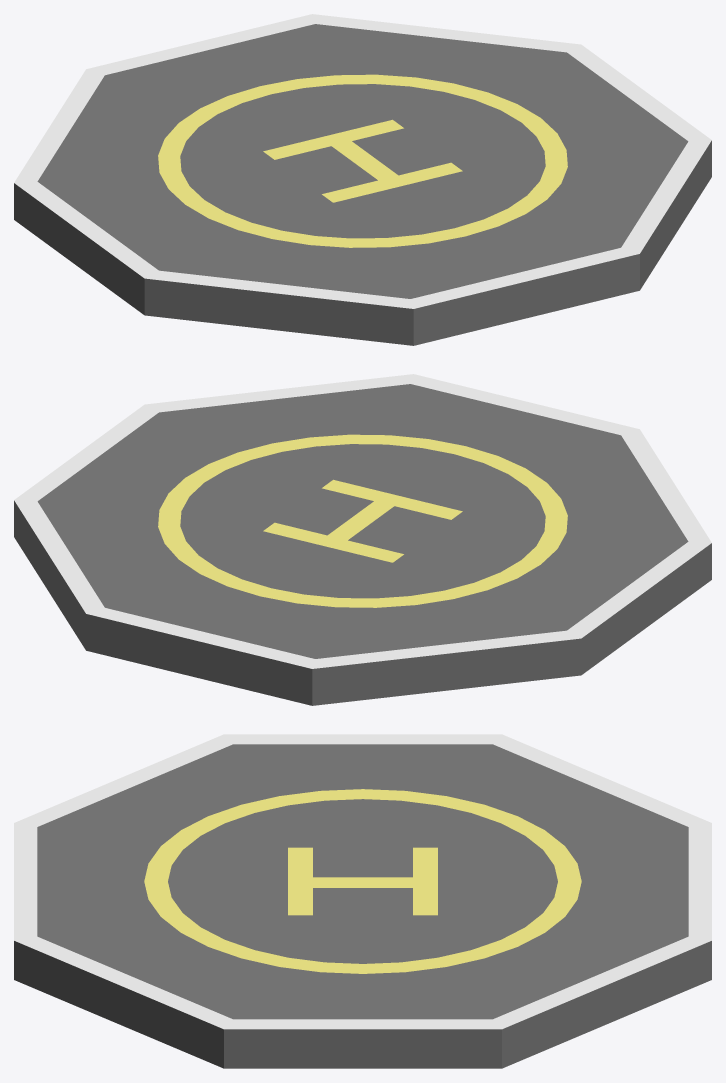
Rendered from helipad_01.fbx.
3 renders of one model, top to bottom at view 1: azimuth 30°, elevation 25°; view 2: azimuth 150°, elevation 25°; view 3: azimuth 270°, elevation 25°, orthographic. The views are drawn at different scales.
Visible parts, largest first — view 1: helipad_01; view 2: helipad_01; view 3: helipad_01.
Part boxes in pixels (x1=…): helipad_01: x1=14, y1=14, x2=711, y2=345; helipad_01: x1=14, y1=374, x2=711, y2=705; helipad_01: x1=14, y1=734, x2=711, y2=1068.
Bounding box in the file's own units: 13.98 × 0.8754 × 13.98.
